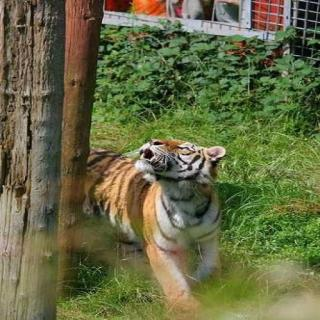Tiger: (46, 109, 259, 297)
